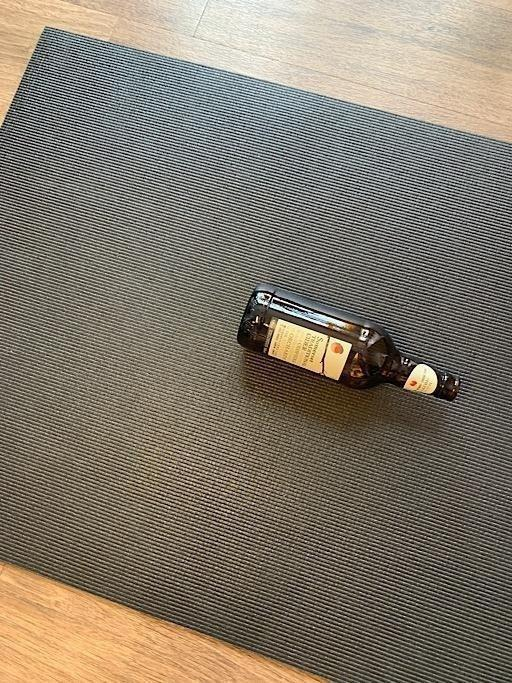bottle-glass: (235, 282, 463, 402)
